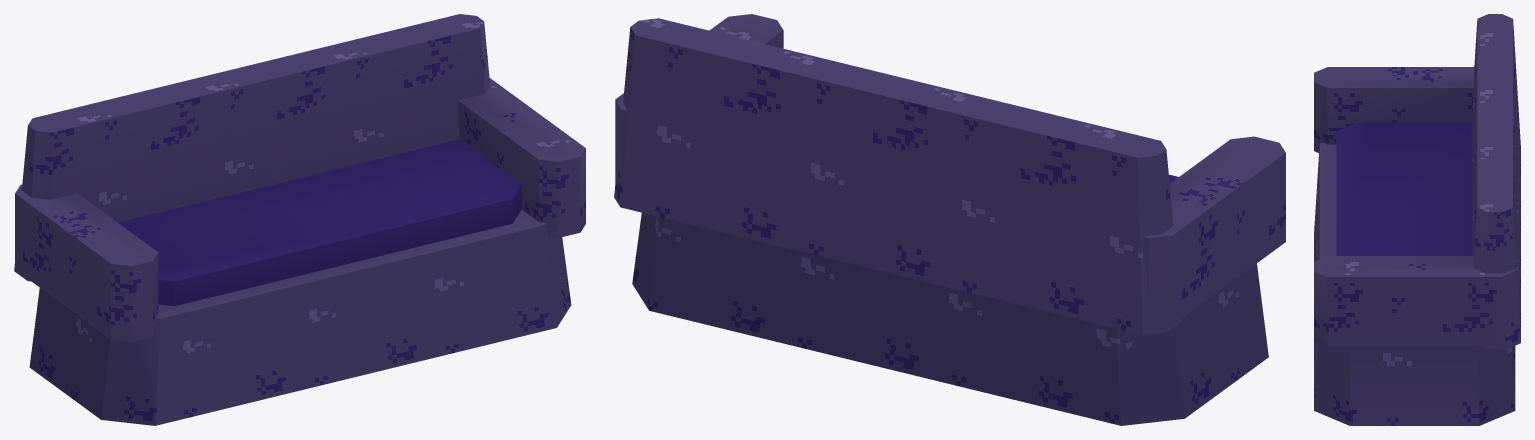
Rendered from cyroom.sofa.glb.
3 views of the same model, side by side, from view 1: azimuth 30°, elevation 25°; view 2: azimuth 150°, elevation 25°; view 3: azimuth 270°, elevation 25° (orthographic). The views are drawn at different scales.
Visible parts, largest first — view 1: kit_body; view 2: kit_body; view 3: kit_body.
Boxes of the visible parts, box(x1,y1,x2,y2) form: kit_body: box(14, 14, 585, 425); kit_body: box(614, 14, 1285, 425); kit_body: box(1314, 14, 1520, 425).
Size of the model in its own units: 2.22 by 1.03 by 0.925.
2 materials, 2 textured.
